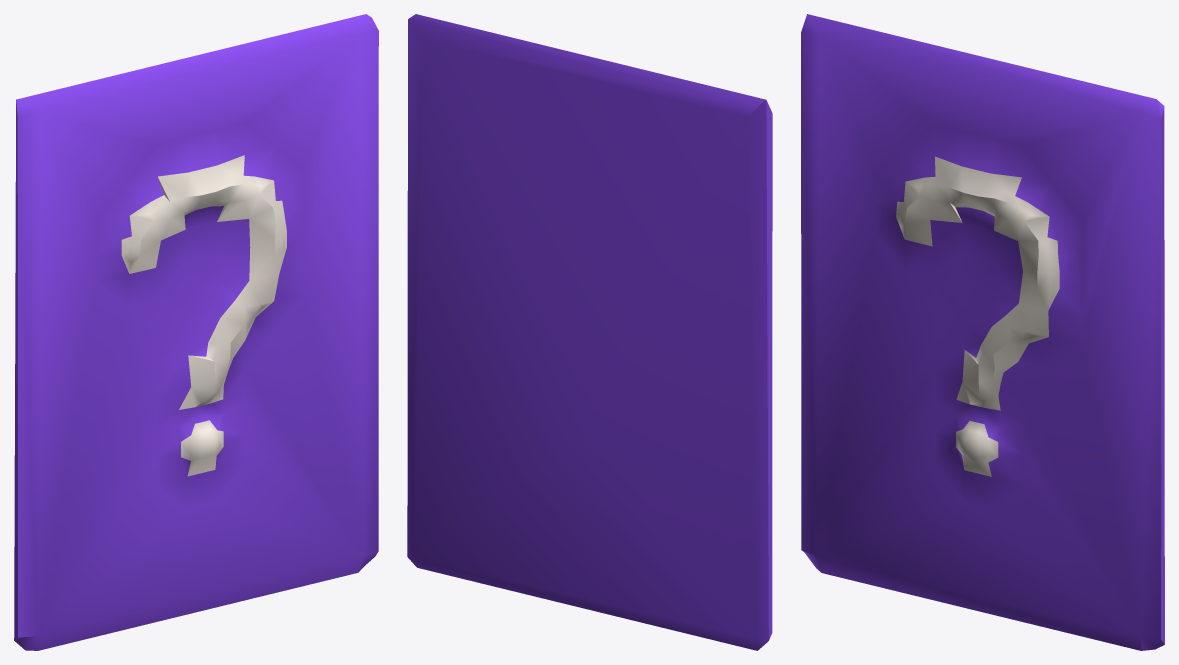
The model's file is card.glb.
3 views of the same model, side by side, from view 1: azimuth 30°, elevation 25°; view 2: azimuth 150°, elevation 25°; view 3: azimuth 330°, elevation 25° (orthographic).
Visible parts, largest first — view 1: card; view 2: card; view 3: card.
Boxes of the visible parts, x1=… form: card: x1=14, y1=14, x2=378, y2=650; card: x1=407, y1=14, x2=772, y2=650; card: x1=801, y1=14, x2=1164, y2=650.
Bounding box in the file's own units: 2.93 × 4.29 × 0.2316.
